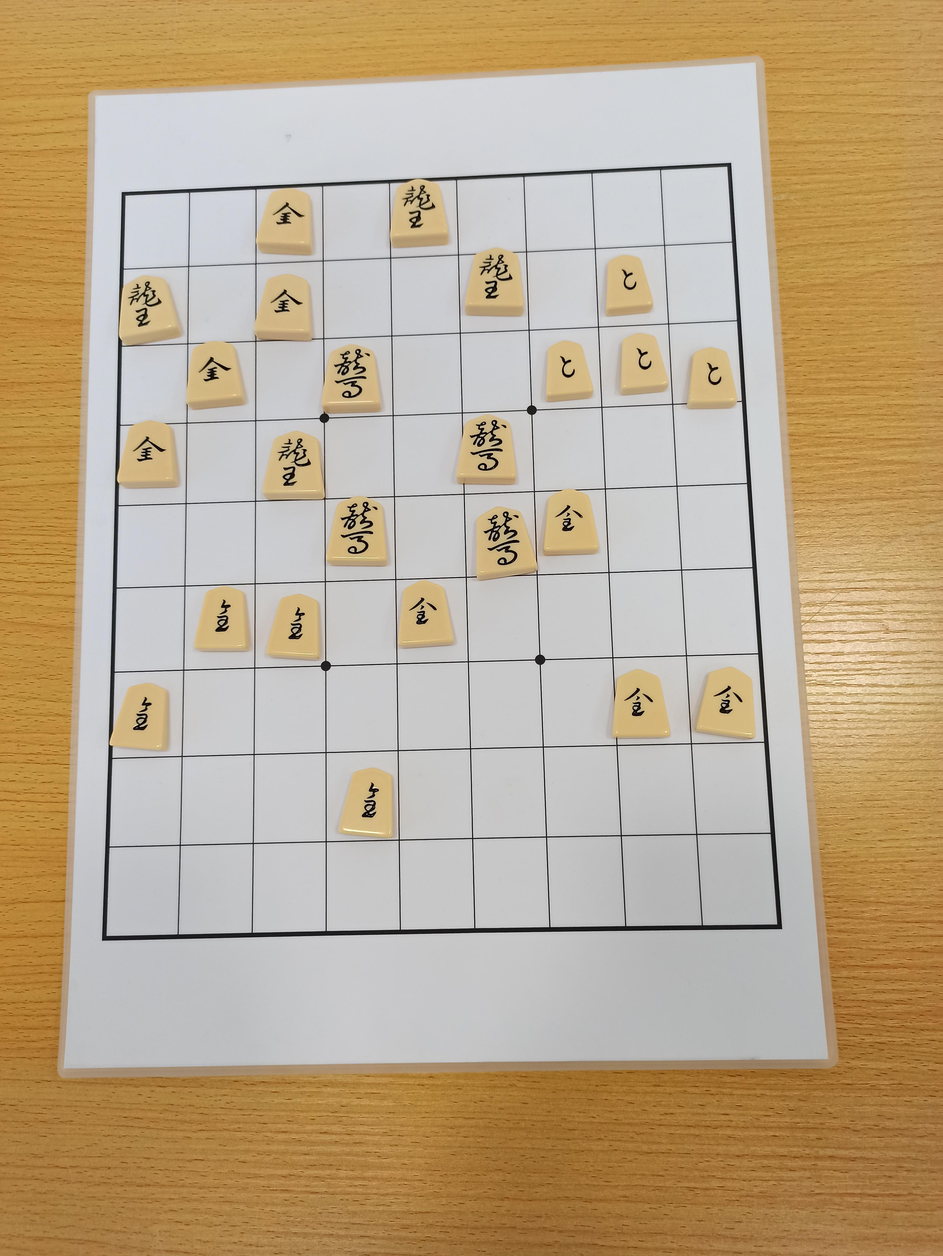board: (105, 166, 779, 938)
